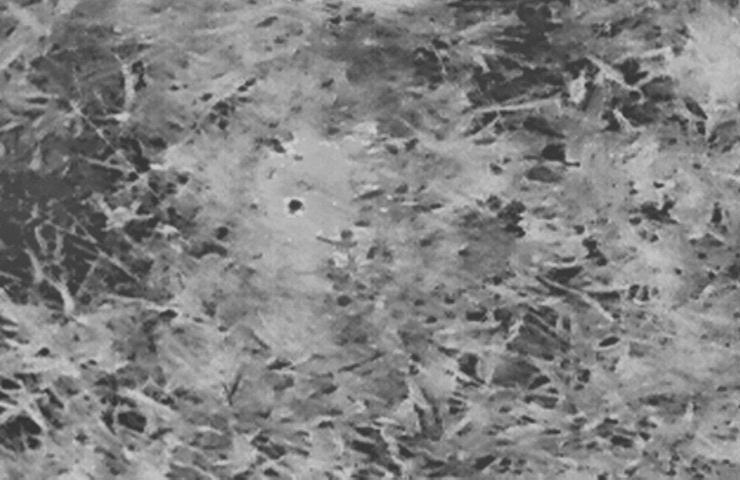landmines: (251, 131, 387, 245)
